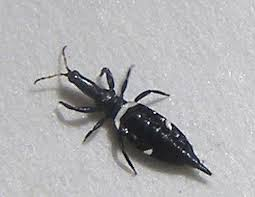Phlaeothripidae: (34, 46, 214, 178)
